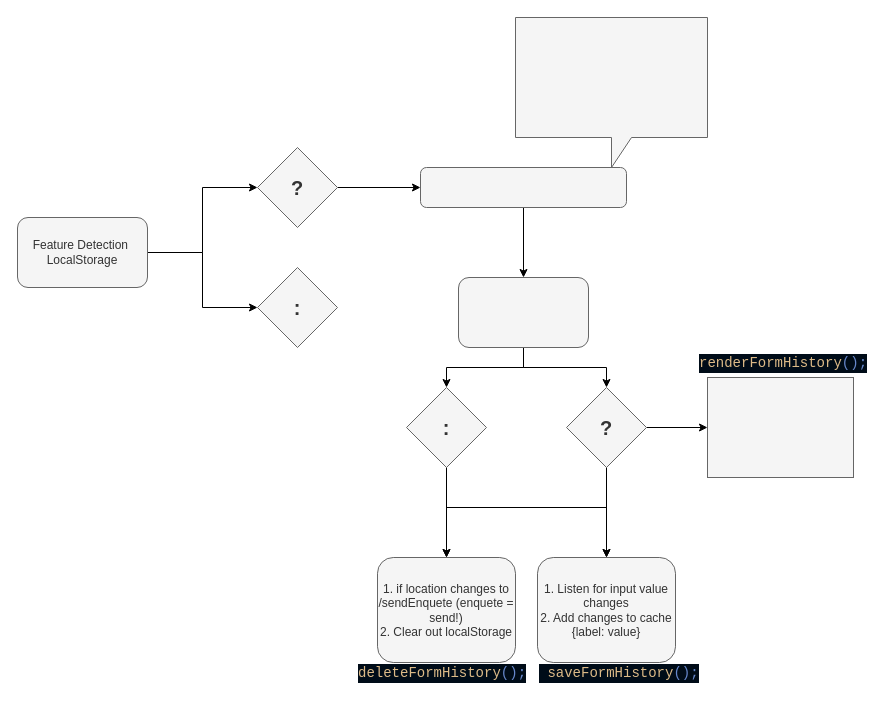
This 895x705 diagram has some shape labels left out. The shapes that lost their labels are listed below. From the top down, each one's centre as x and y in pixels, then its label:
(x=611, y=92): deleteFormHistory (); renderFormHistory (); saveFormHistory ();
(x=523, y=187): localStorageFeature ();
(x=523, y=312): Does history exist in cache?
(x=780, y=427): 1. Loop through Input Elements 2. Fill in data from cache
